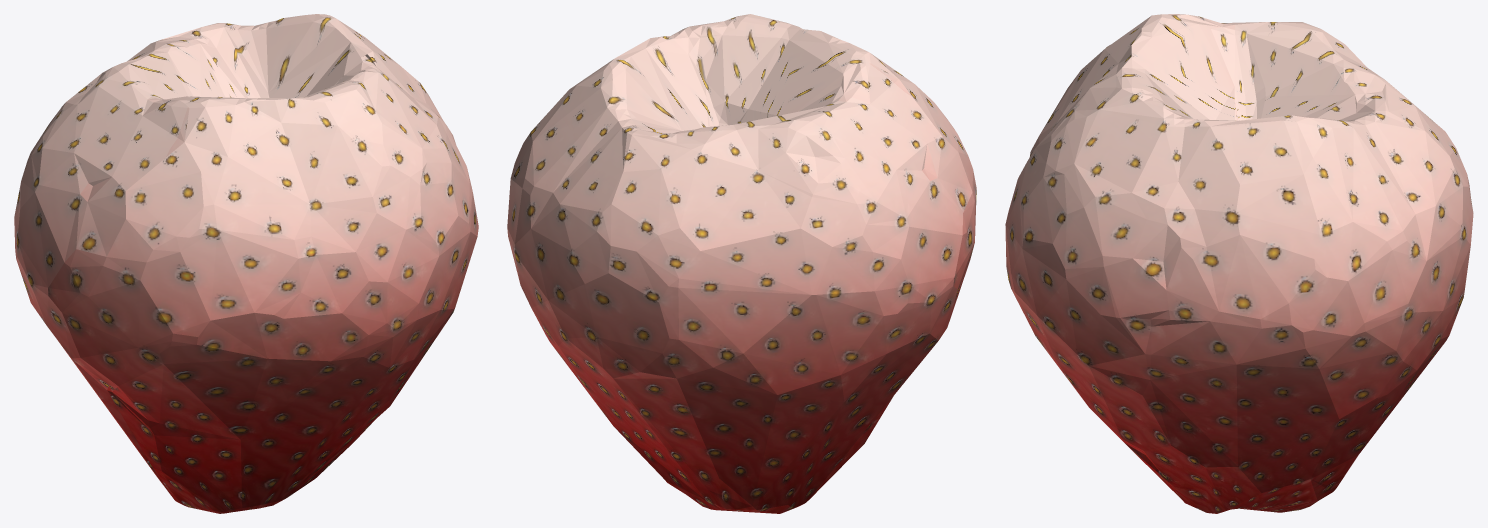
3 views of the same model, side by side, from view 1: azimuth 30°, elevation 25°; view 2: azimuth 150°, elevation 25°; view 3: azimuth 270°, elevation 25° (orthographic). The views are drawn at different scales.
Visible parts, largest first — view 1: _004_Meshed; view 2: _004_Meshed; view 3: _004_Meshed.
Part boxes in pixels (bbox=[...]): _004_Meshed: bbox=[14, 14, 478, 513]; _004_Meshed: bbox=[507, 14, 976, 513]; _004_Meshed: bbox=[1005, 14, 1473, 513].
Size of the model in its own units: 0.1098 by 0.1046 by 0.1135.
1 material, 1 textured.
